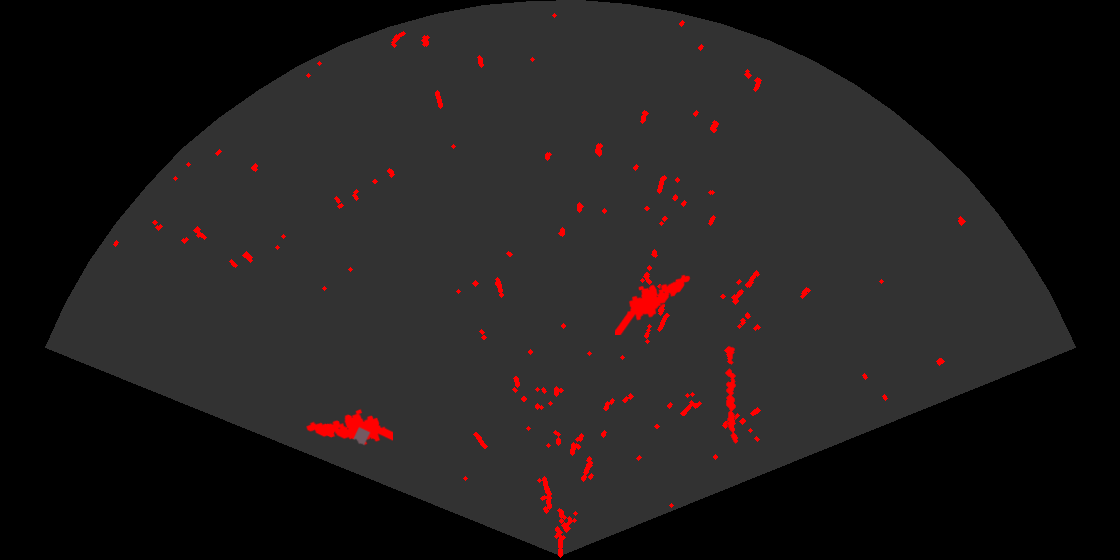chain: (722, 345, 740, 445)
frogman: (615, 273, 692, 335), (304, 407, 393, 447)
